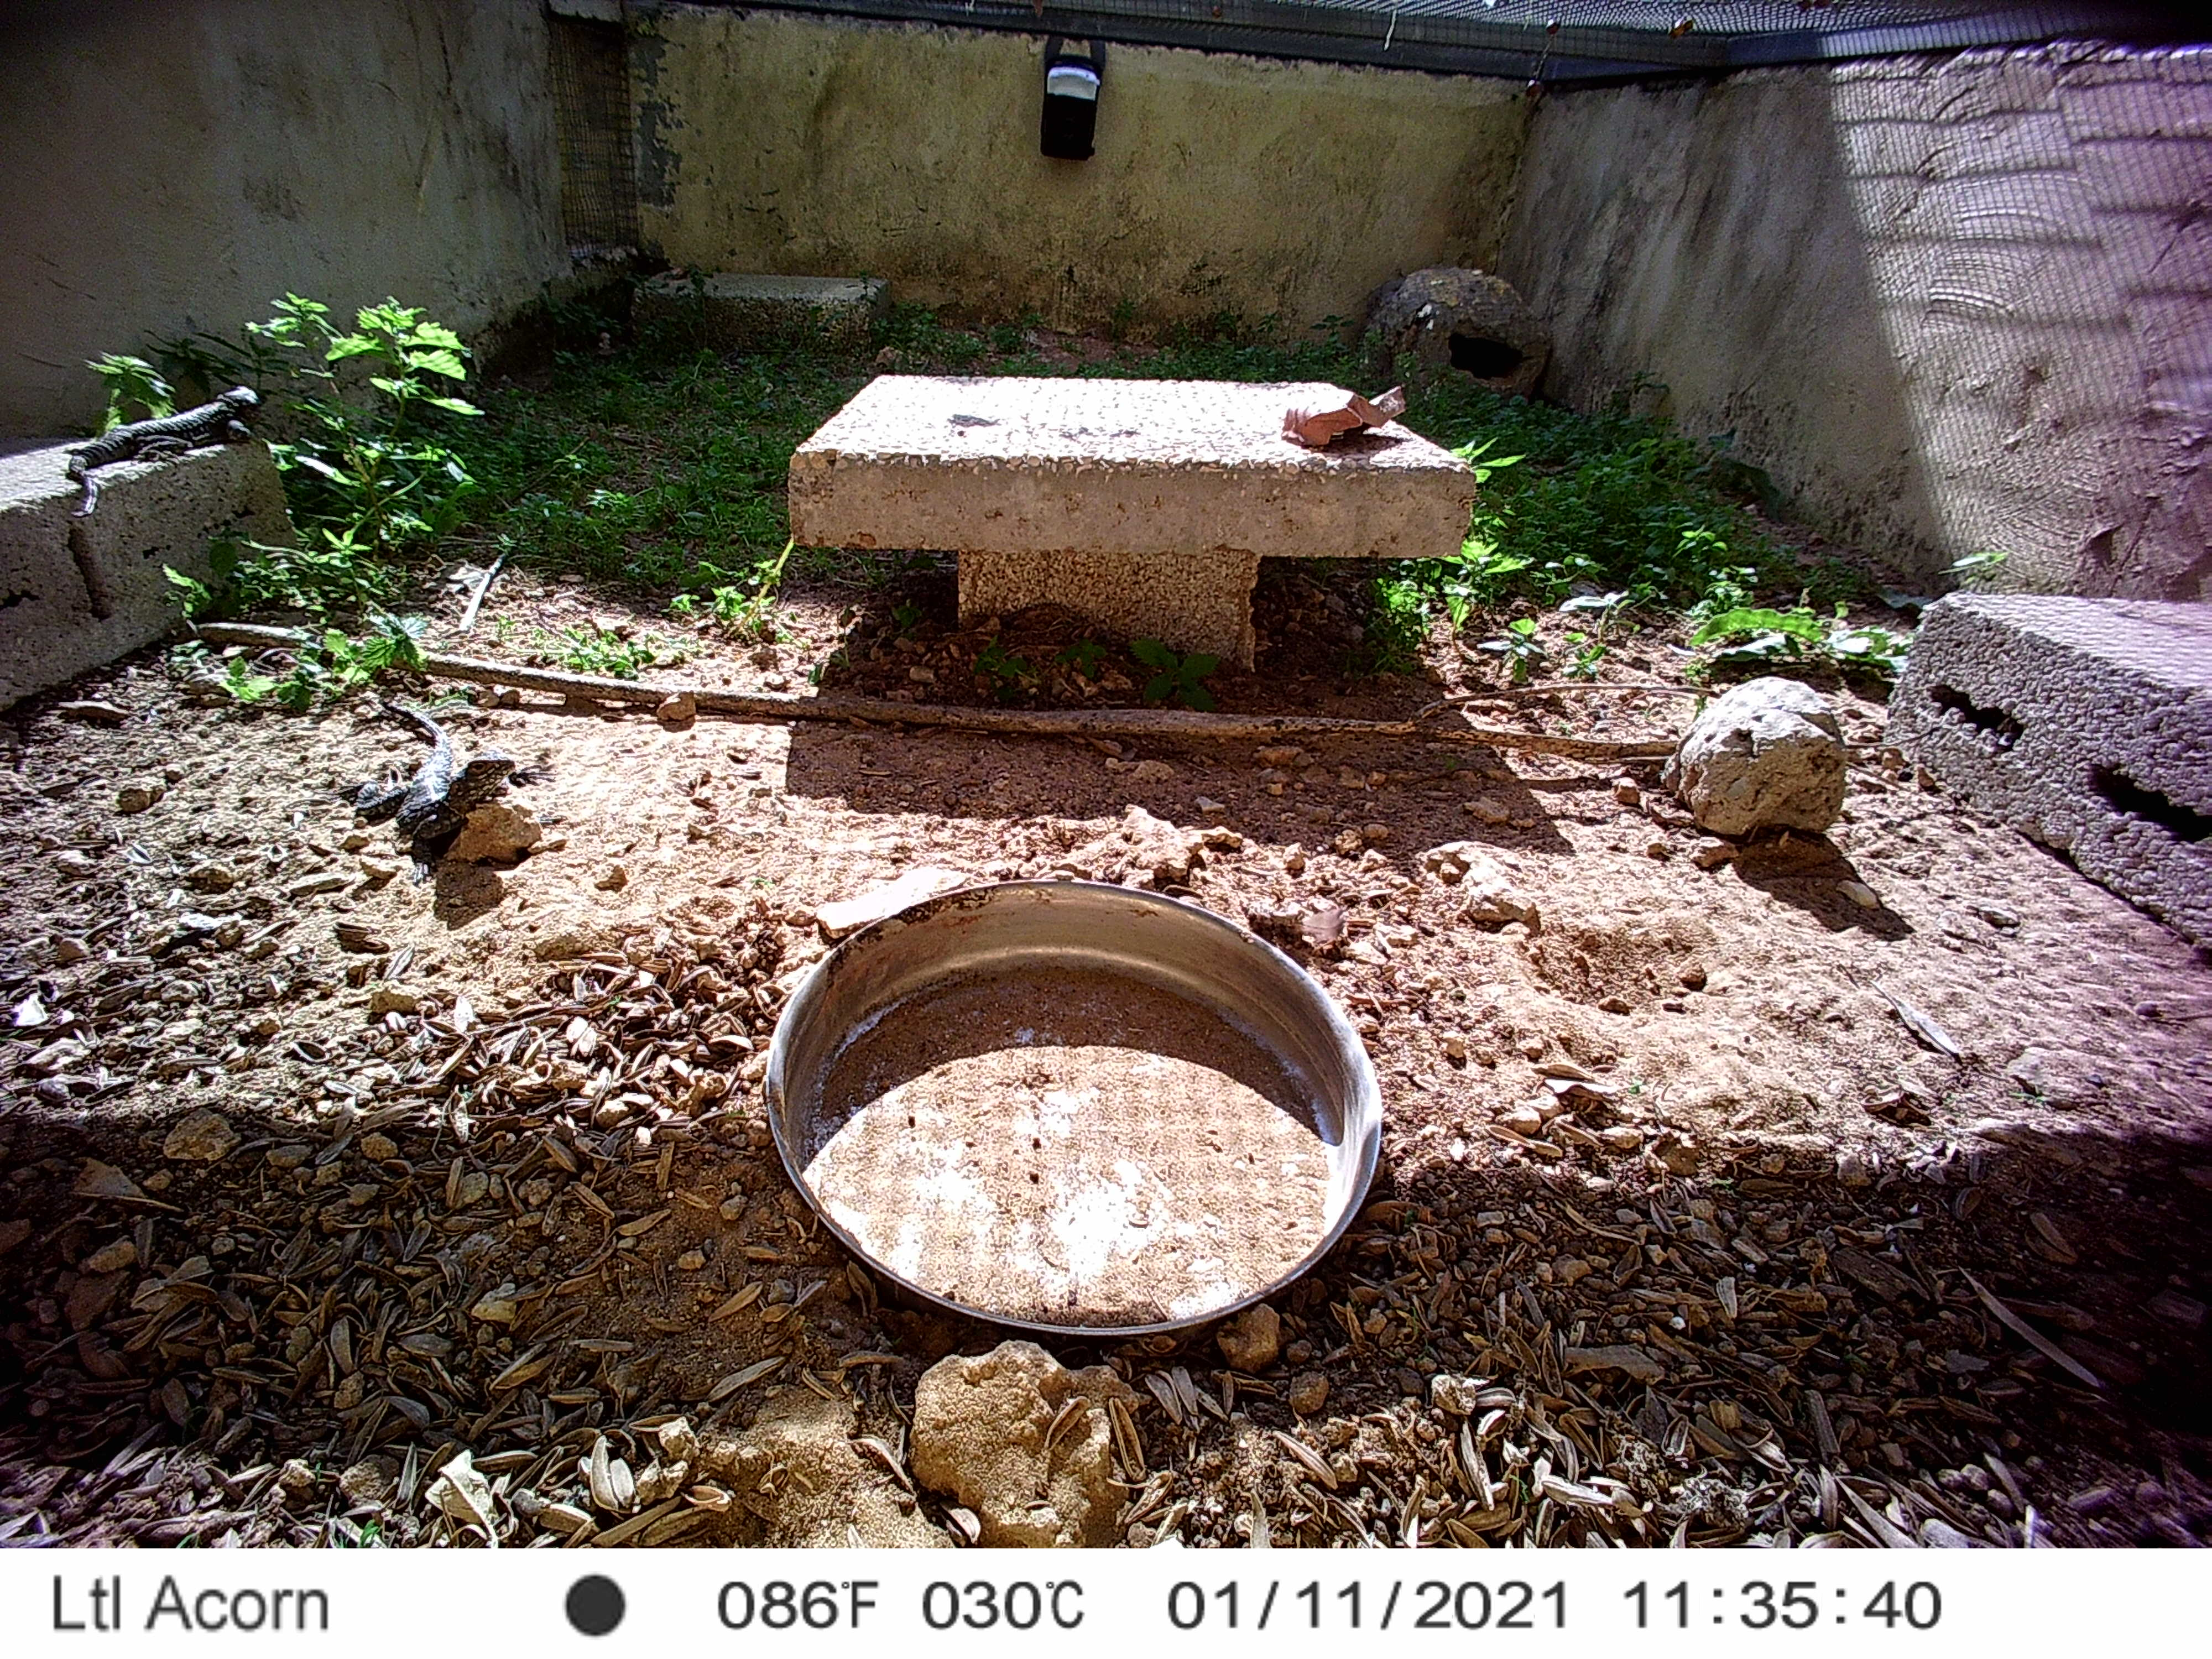lizard: (322, 697, 523, 890), (61, 380, 268, 530)
